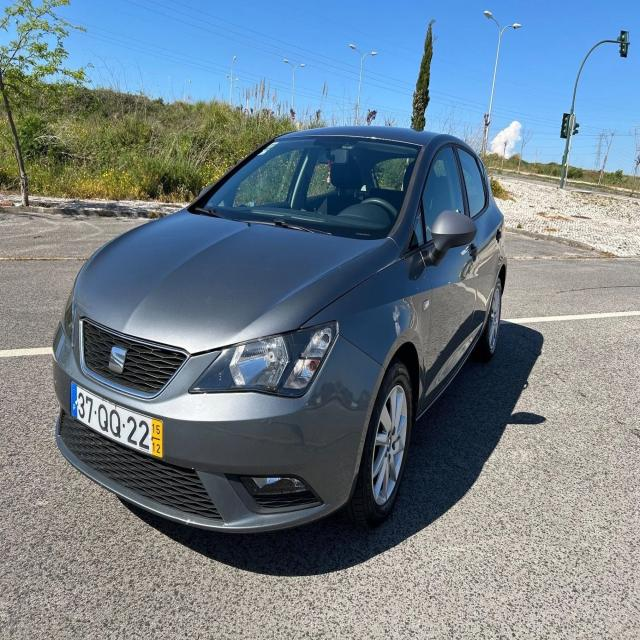portuguese-license-plates: (68, 378, 166, 465)
